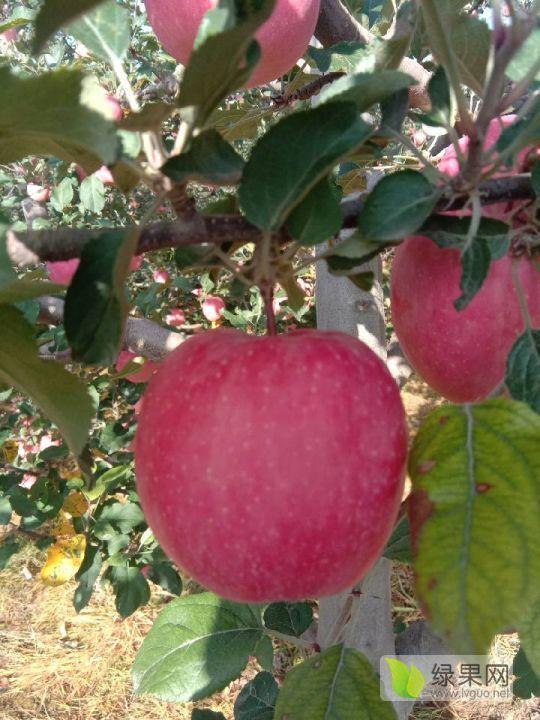apple: (129, 319, 411, 595), (388, 233, 529, 402)
